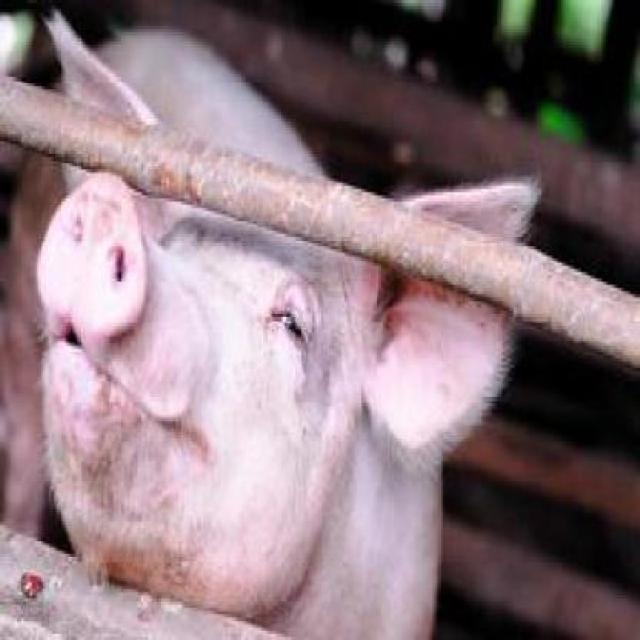pig: (38, 171, 511, 640), (49, 16, 321, 176), (419, 181, 536, 239)
